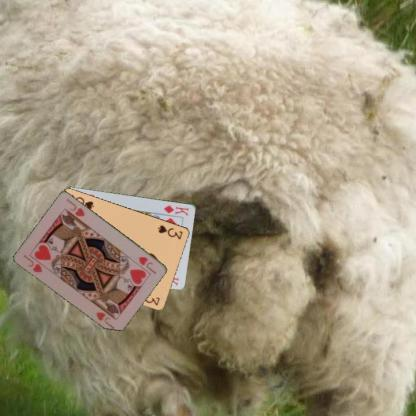3s: (155, 222, 184, 240)
Jh: (21, 252, 49, 274), (136, 254, 158, 276)
Kd: (161, 202, 190, 217)
